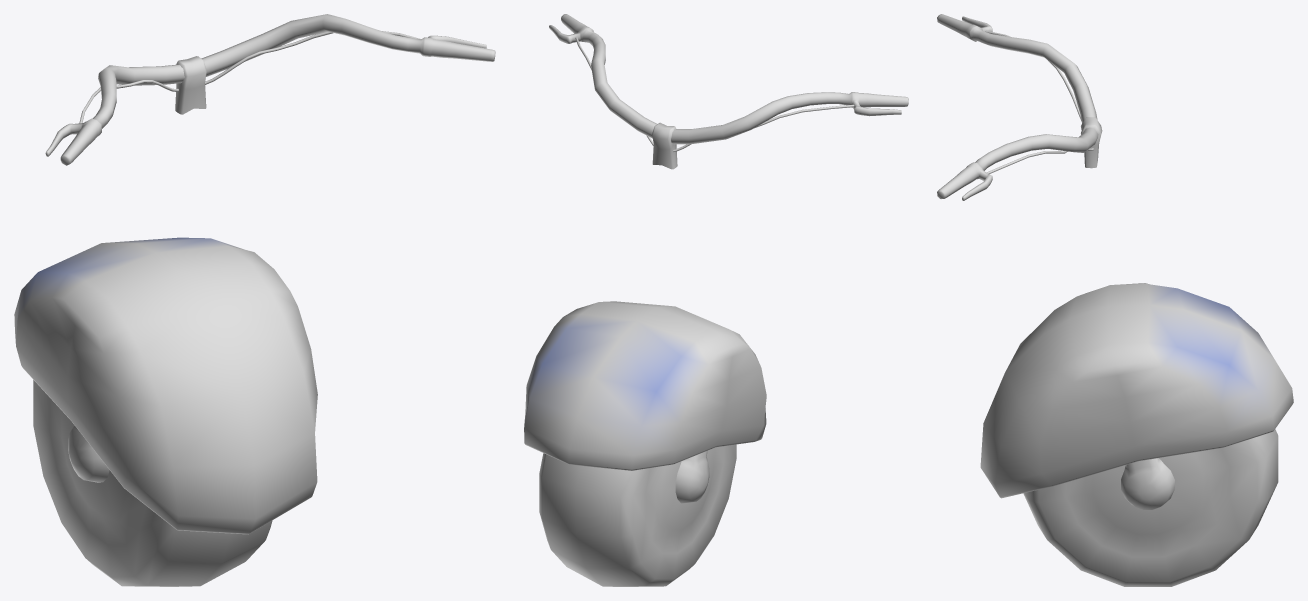
The model's file is Motorbike1_Front.glb.
3 renders of one model, left to right at view 1: azimuth 30°, elevation 25°; view 2: azimuth 150°, elevation 25°; view 3: azimuth 270°, elevation 25°, orthographic. The views are drawn at different scales.
Visible parts, largest first — view 1: Back_Bike1, wheel_bike1.001; view 2: Back_Bike1, wheel_bike1.001; view 3: Back_Bike1, wheel_bike1.001.
Boxes of the visible parts, box(x1,y1,x2,y2) form: Back_Bike1: box(14, 14, 495, 534); wheel_bike1.001: box(33, 380, 272, 586); Back_Bike1: box(524, 14, 908, 503); wheel_bike1.001: box(539, 444, 736, 586); Back_Bike1: box(937, 14, 1293, 509); wheel_bike1.001: box(1023, 429, 1278, 586).
Size of the model in its own units: 1.82 by 2.29 by 1.52.
